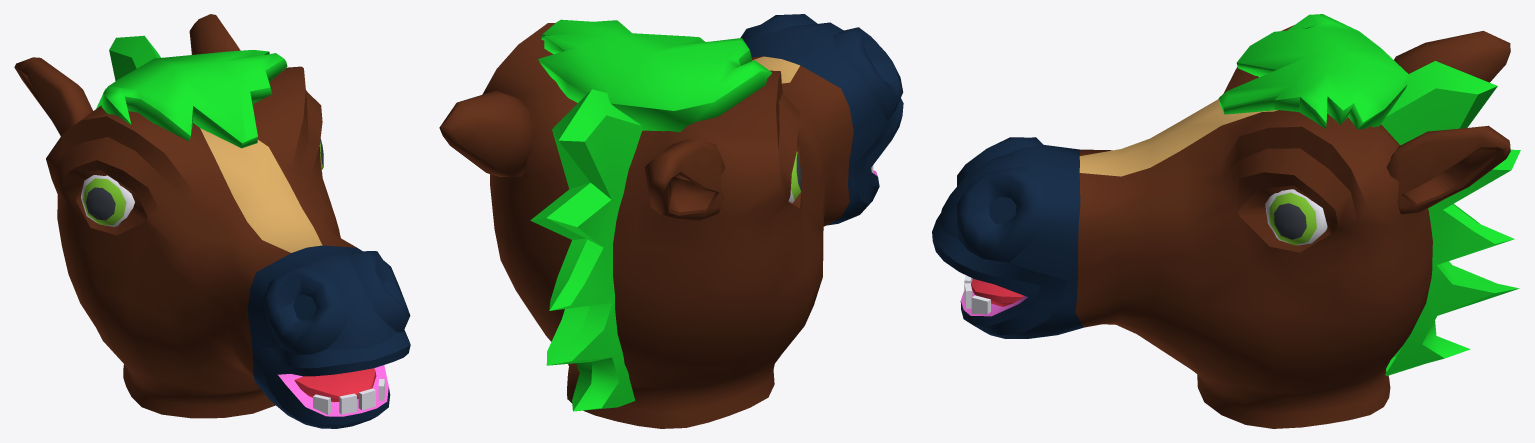
Rendered from Horse_head.fbx.
3 views of the same model, side by side, from view 1: azimuth 30°, elevation 25°; view 2: azimuth 150°, elevation 25°; view 3: azimuth 270°, elevation 25° (orthographic). The views are drawn at different scales.
Visible parts, largest first — view 1: Horse_head; view 2: Horse_head; view 3: Horse_head.
Boxes of the visible parts, x1=… form: Horse_head: x1=14, y1=14, x2=410, y2=428; Horse_head: x1=439, y1=14, x2=903, y2=428; Horse_head: x1=932, y1=14, x2=1520, y2=428.
Bounding box in the file's own units: 0.7323 × 0.8128 × 1.31.
